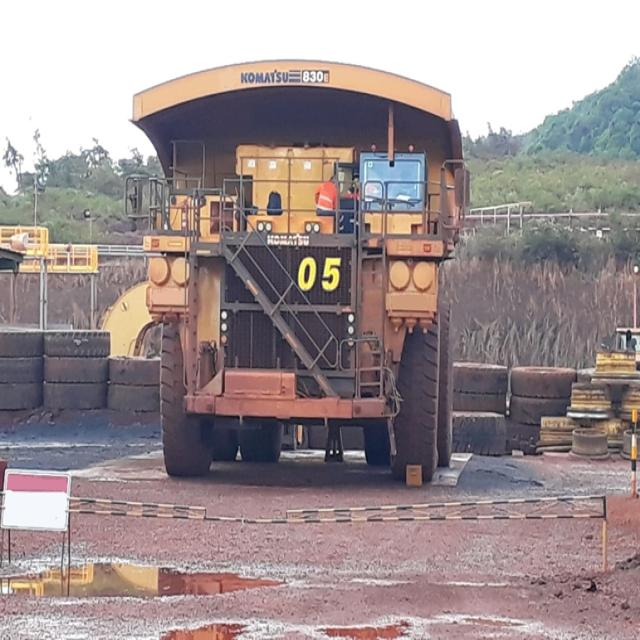dump_truck: (119, 53, 472, 500)
